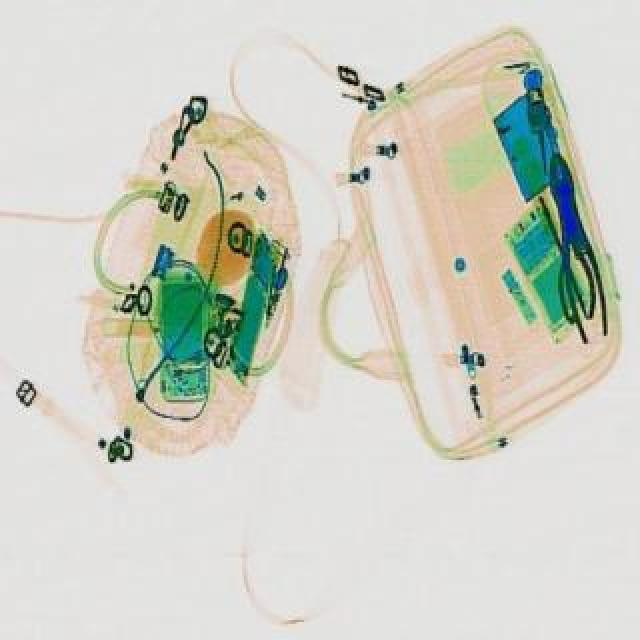wrench: (538, 146, 614, 342), (540, 196, 600, 318)
